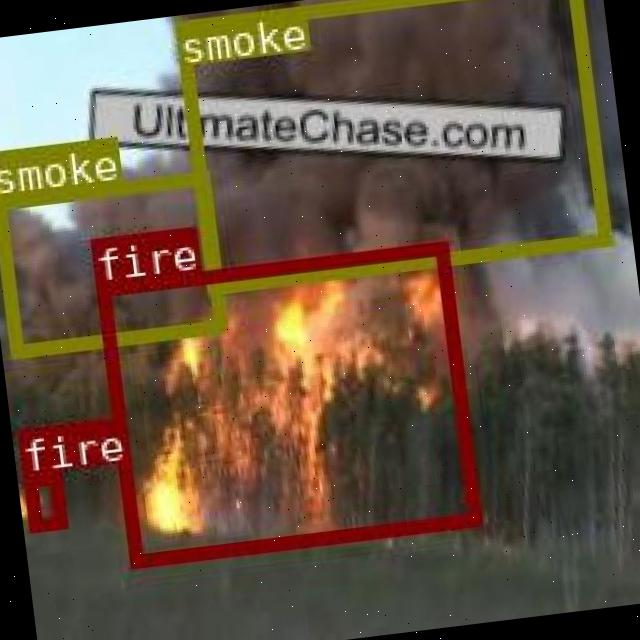fire: (94, 238, 478, 565), (20, 469, 64, 530)
smoke: (172, 0, 607, 290), (0, 170, 224, 356)
